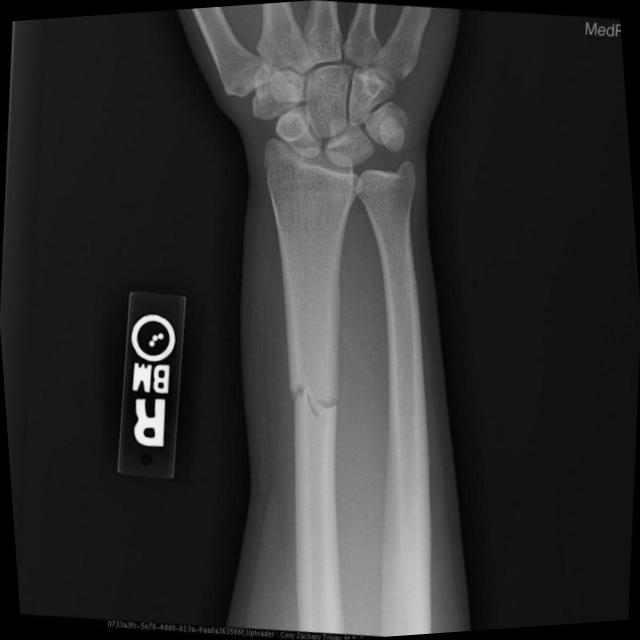Transverse Displaced: (280, 371, 352, 436)
